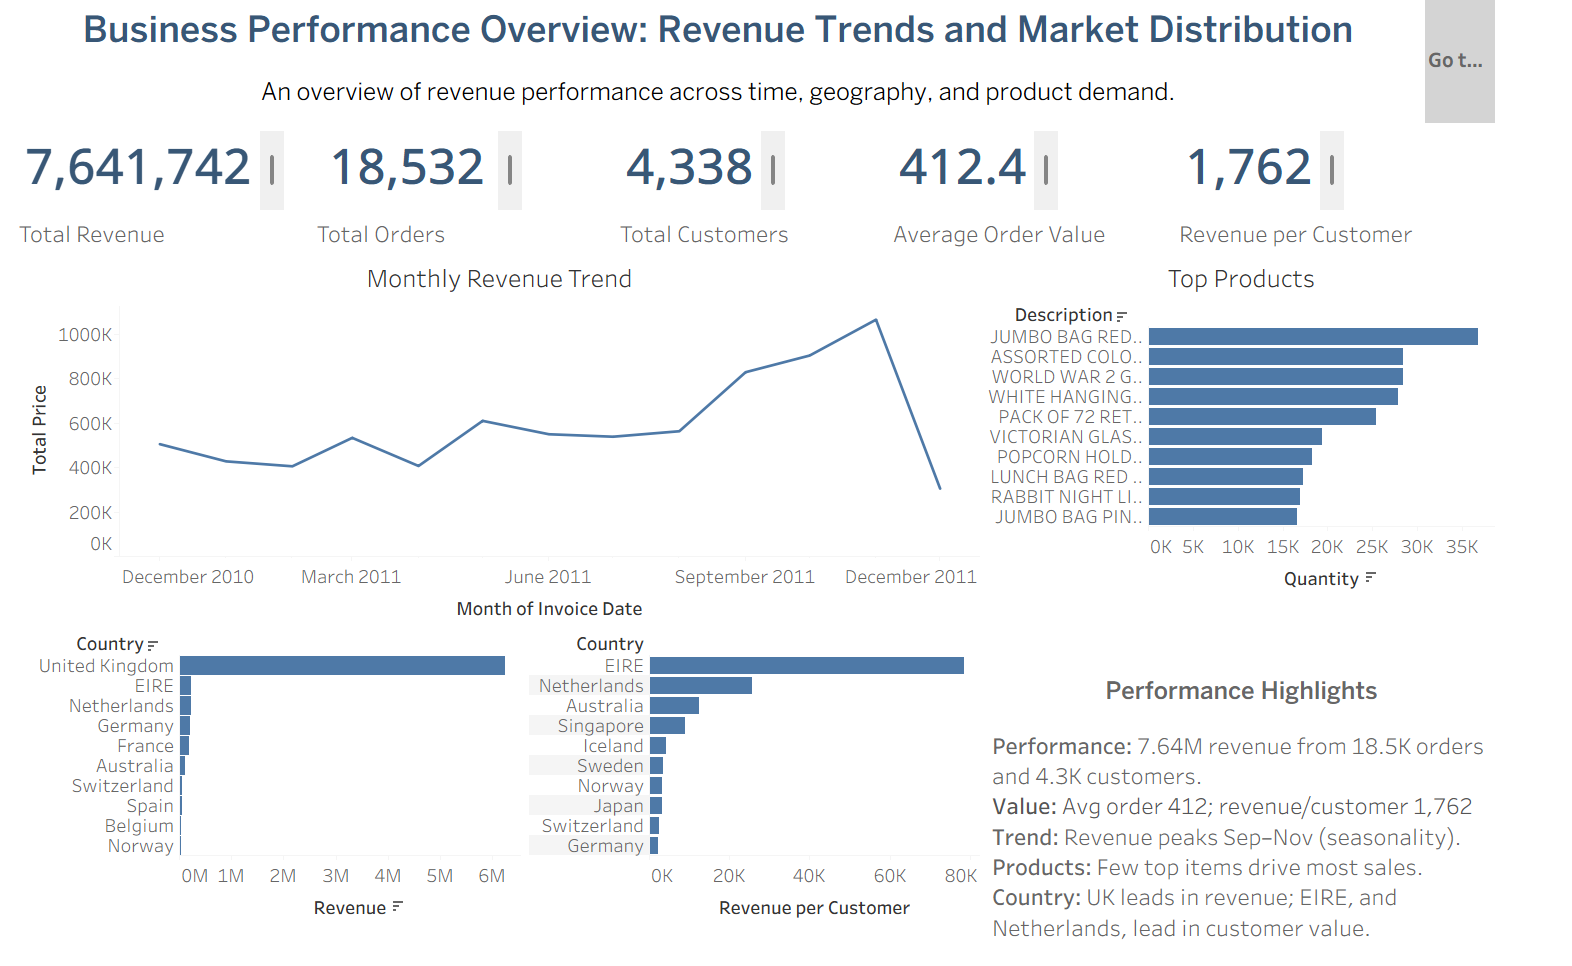

What the dashboard file says about the page in this screenshot:
{"tool":"tableau","page":{"name":"Dashboard 1:Business Overview","canvas":[1000,1000],"units":"permille","ordinal":0},"visuals":[{"type":"text","box":[5.3,8.9,937.3,136.7]},{"type":"dashboard-object","box":[942.7,8.9,52,136.7]},{"type":"worksheet","title":"Total_Revenue","mark":"Automatic","box":[5.3,145.6,198.7,125.5]},{"type":"worksheet","title":"Total_Orders","mark":"Automatic","box":[204,145.6,202,125.5]},{"type":"worksheet","title":"Total_Customers","mark":"Automatic","box":[406,145.6,182,125.5]},{"type":"worksheet","title":"Avg_Order_Value","mark":"Automatic","box":[588,145.6,190.7,125.5]},{"type":"worksheet","title":"Revenue_per_Customer","mark":"Automatic","box":[778.6,145.6,194.7,125.5]},{"type":"worksheet","title":"Monthly_Revenue_Trend","mark":"Automatic","rows":["TotalPrice"],"cols":["InvoiceDate"],"box":[5.3,271.1,646,377.8]},{"type":"worksheet","title":"Top_Products","mark":"Automatic","rows":["Description"],"cols":["Quantity"],"box":[651.3,271.1,343.4,386.7]},{"type":"worksheet","title":"Revenue_by_Country","mark":"Automatic","rows":["Country"],"cols":["TotalPrice"],"box":[5.3,648.9,340,332.2]},{"type":"worksheet","title":"Revenue_per_Customer_by_Country","mark":"Automatic","rows":["Country"],"cols":["Calculation_1166907396333572"],"box":[345.3,648.9,306,332.2]},{"type":"text","box":[651.3,666.7,343.4,324.4]}]}

Visuals, with their boxes on the dashboard's canvas, which has no fixed pixel size, in thousandths of its width and height (x1, y1, x2, y2). These are canvas units, not pixel positions in the 1572x966 screenshot, which may show the page scaled, cropped or inside an application window:
text: [left=5, top=9, right=943, bottom=146]
dashboard-object: [left=943, top=9, right=995, bottom=146]
"Total_Revenue" worksheet: [left=5, top=146, right=204, bottom=271]
"Total_Orders" worksheet: [left=204, top=146, right=406, bottom=271]
"Total_Customers" worksheet: [left=406, top=146, right=588, bottom=271]
"Avg_Order_Value" worksheet: [left=588, top=146, right=779, bottom=271]
"Revenue_per_Customer" worksheet: [left=779, top=146, right=973, bottom=271]
"Monthly_Revenue_Trend" worksheet: [left=5, top=271, right=651, bottom=649]
"Top_Products" worksheet: [left=651, top=271, right=995, bottom=658]
"Revenue_by_Country" worksheet: [left=5, top=649, right=345, bottom=981]
"Revenue_per_Customer_by_Country" worksheet: [left=345, top=649, right=651, bottom=981]
text: [left=651, top=667, right=995, bottom=991]
